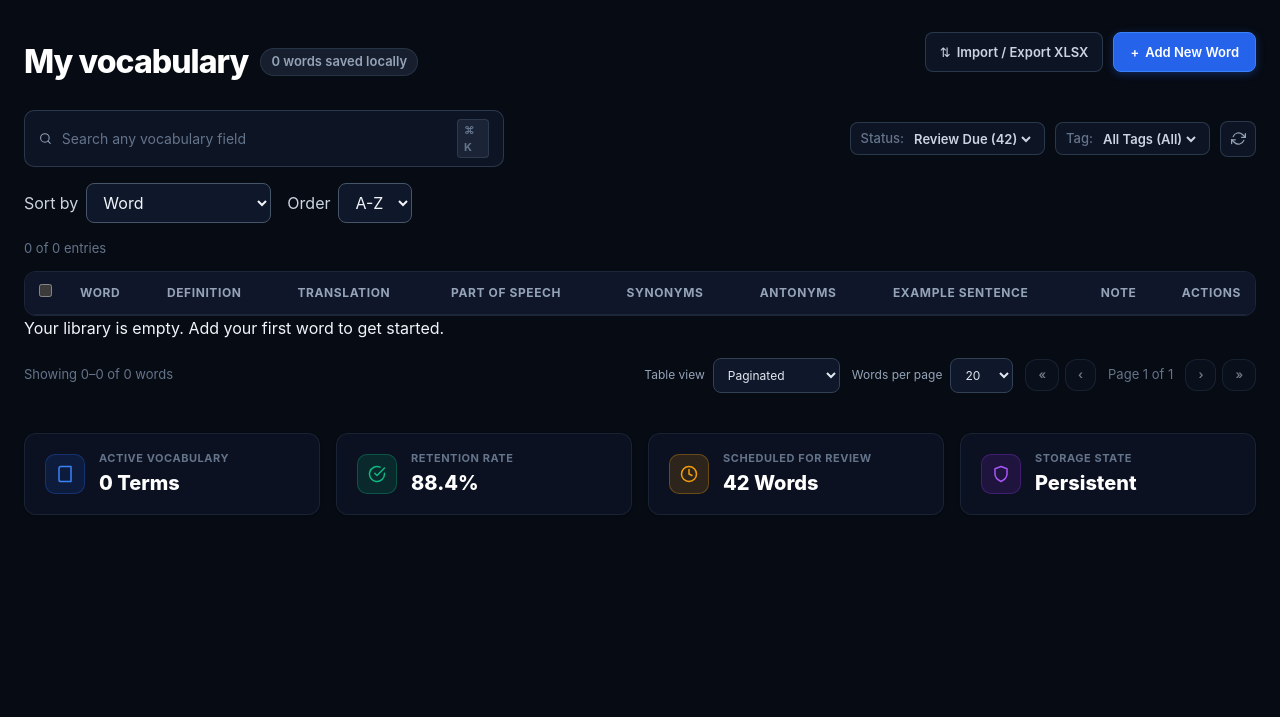
Test case: toggles the combined Excel tools button open and closed
Click the button "⇅ Import / Export XLSX" at x=1014, y=52, box x1=925 y1=32 x2=1103 y2=72
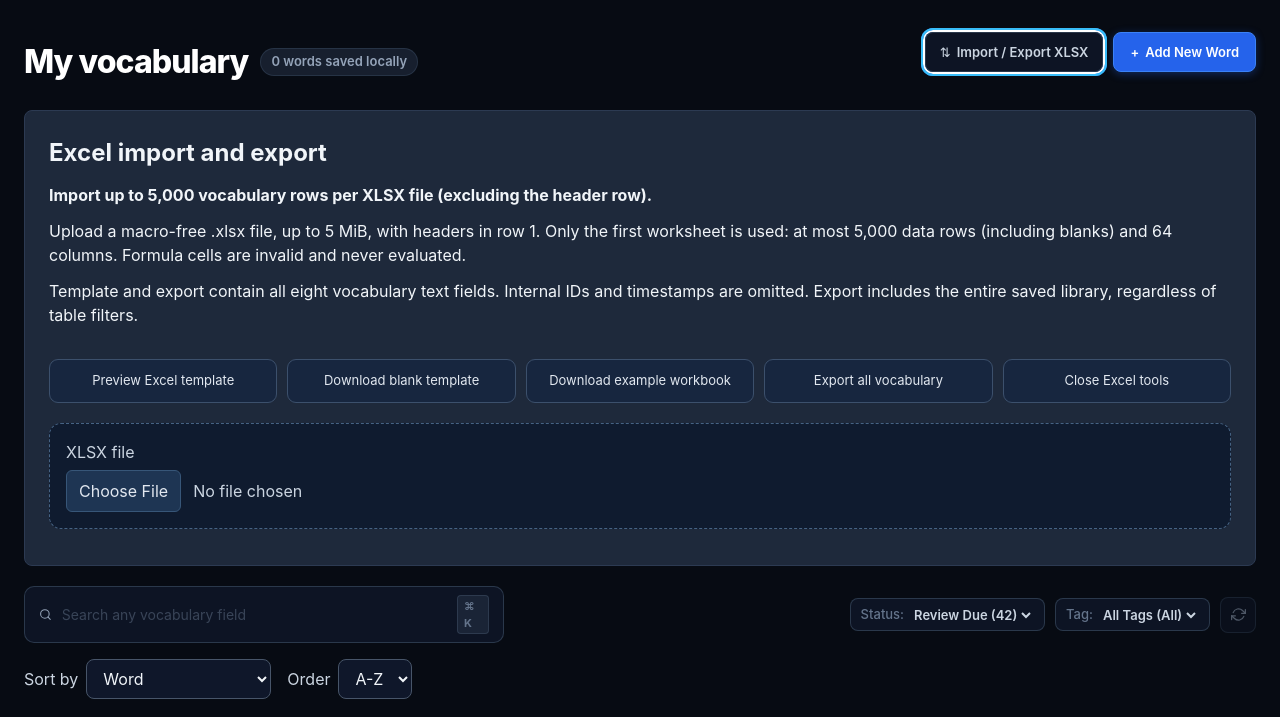
Check: the heading "Excel import and export" is shown, box x1=49 y1=138 x2=327 y2=167
Click the button "⇅ Import / Export XLSX" at x=1014, y=52, box x1=925 y1=32 x2=1103 y2=72
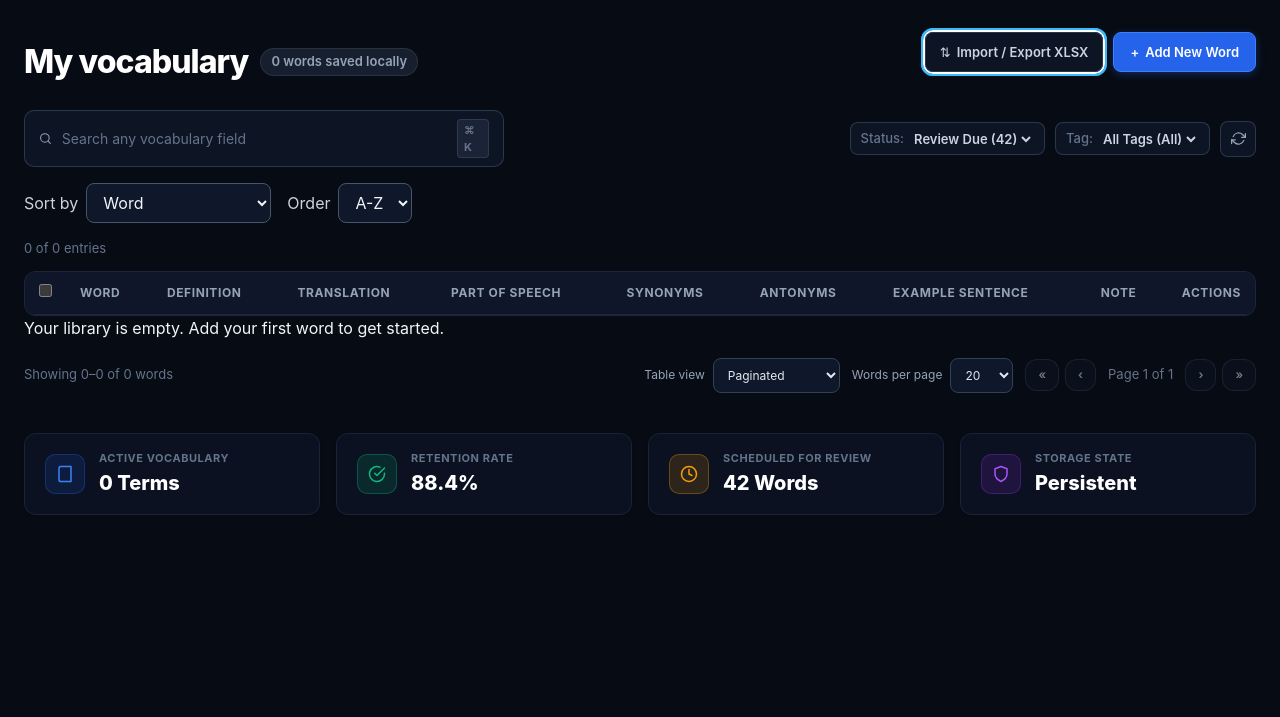
Check: the heading "Excel import and export" is gone
